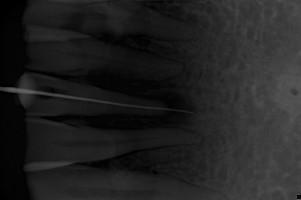Furcation Involvement: (143, 89, 192, 125)
